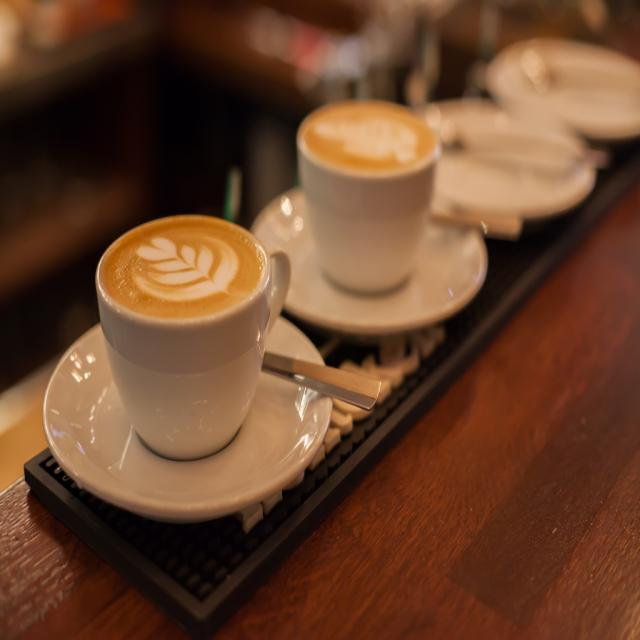Coffee: (89, 218, 277, 472), (302, 96, 438, 174)
